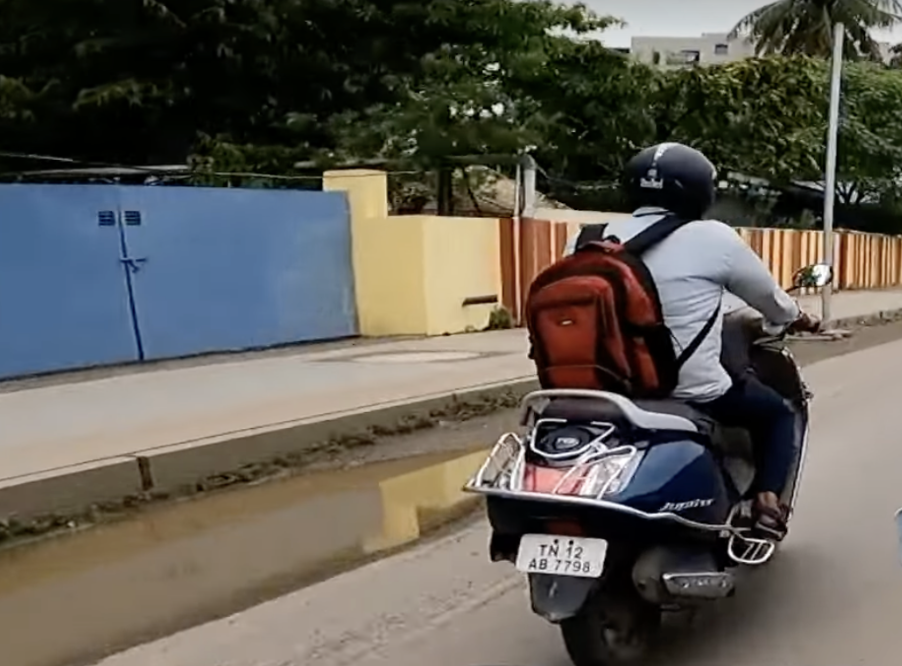motor: (475, 262, 820, 662)
number: (519, 533, 602, 578)
with helmet: (622, 138, 717, 218)
